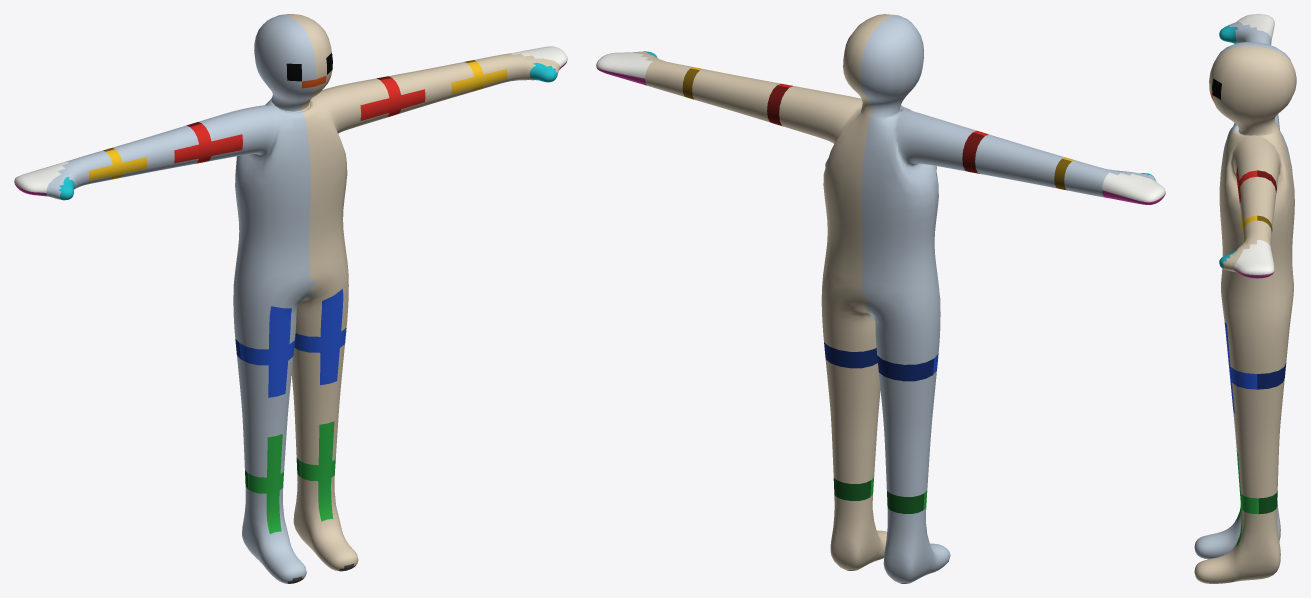
The model's file is mannequin-human-tpose.fbx.
3 views of the same model, side by side, from view 1: azimuth 30°, elevation 25°; view 2: azimuth 150°, elevation 25°; view 3: azimuth 270°, elevation 25° (orthographic). The views are drawn at different scales.
Parts seen in each view (by area): view 1: MannequinTPose; view 2: MannequinTPose; view 3: MannequinTPose.
Part boxes in pixels (x1,y1,x2,y2): MannequinTPose: (14,14,567,583); MannequinTPose: (596,14,1165,583); MannequinTPose: (1194,14,1296,583).
Size of the model in its own units: 190 by 180 by 31.8.
1 material, 1 textured.
